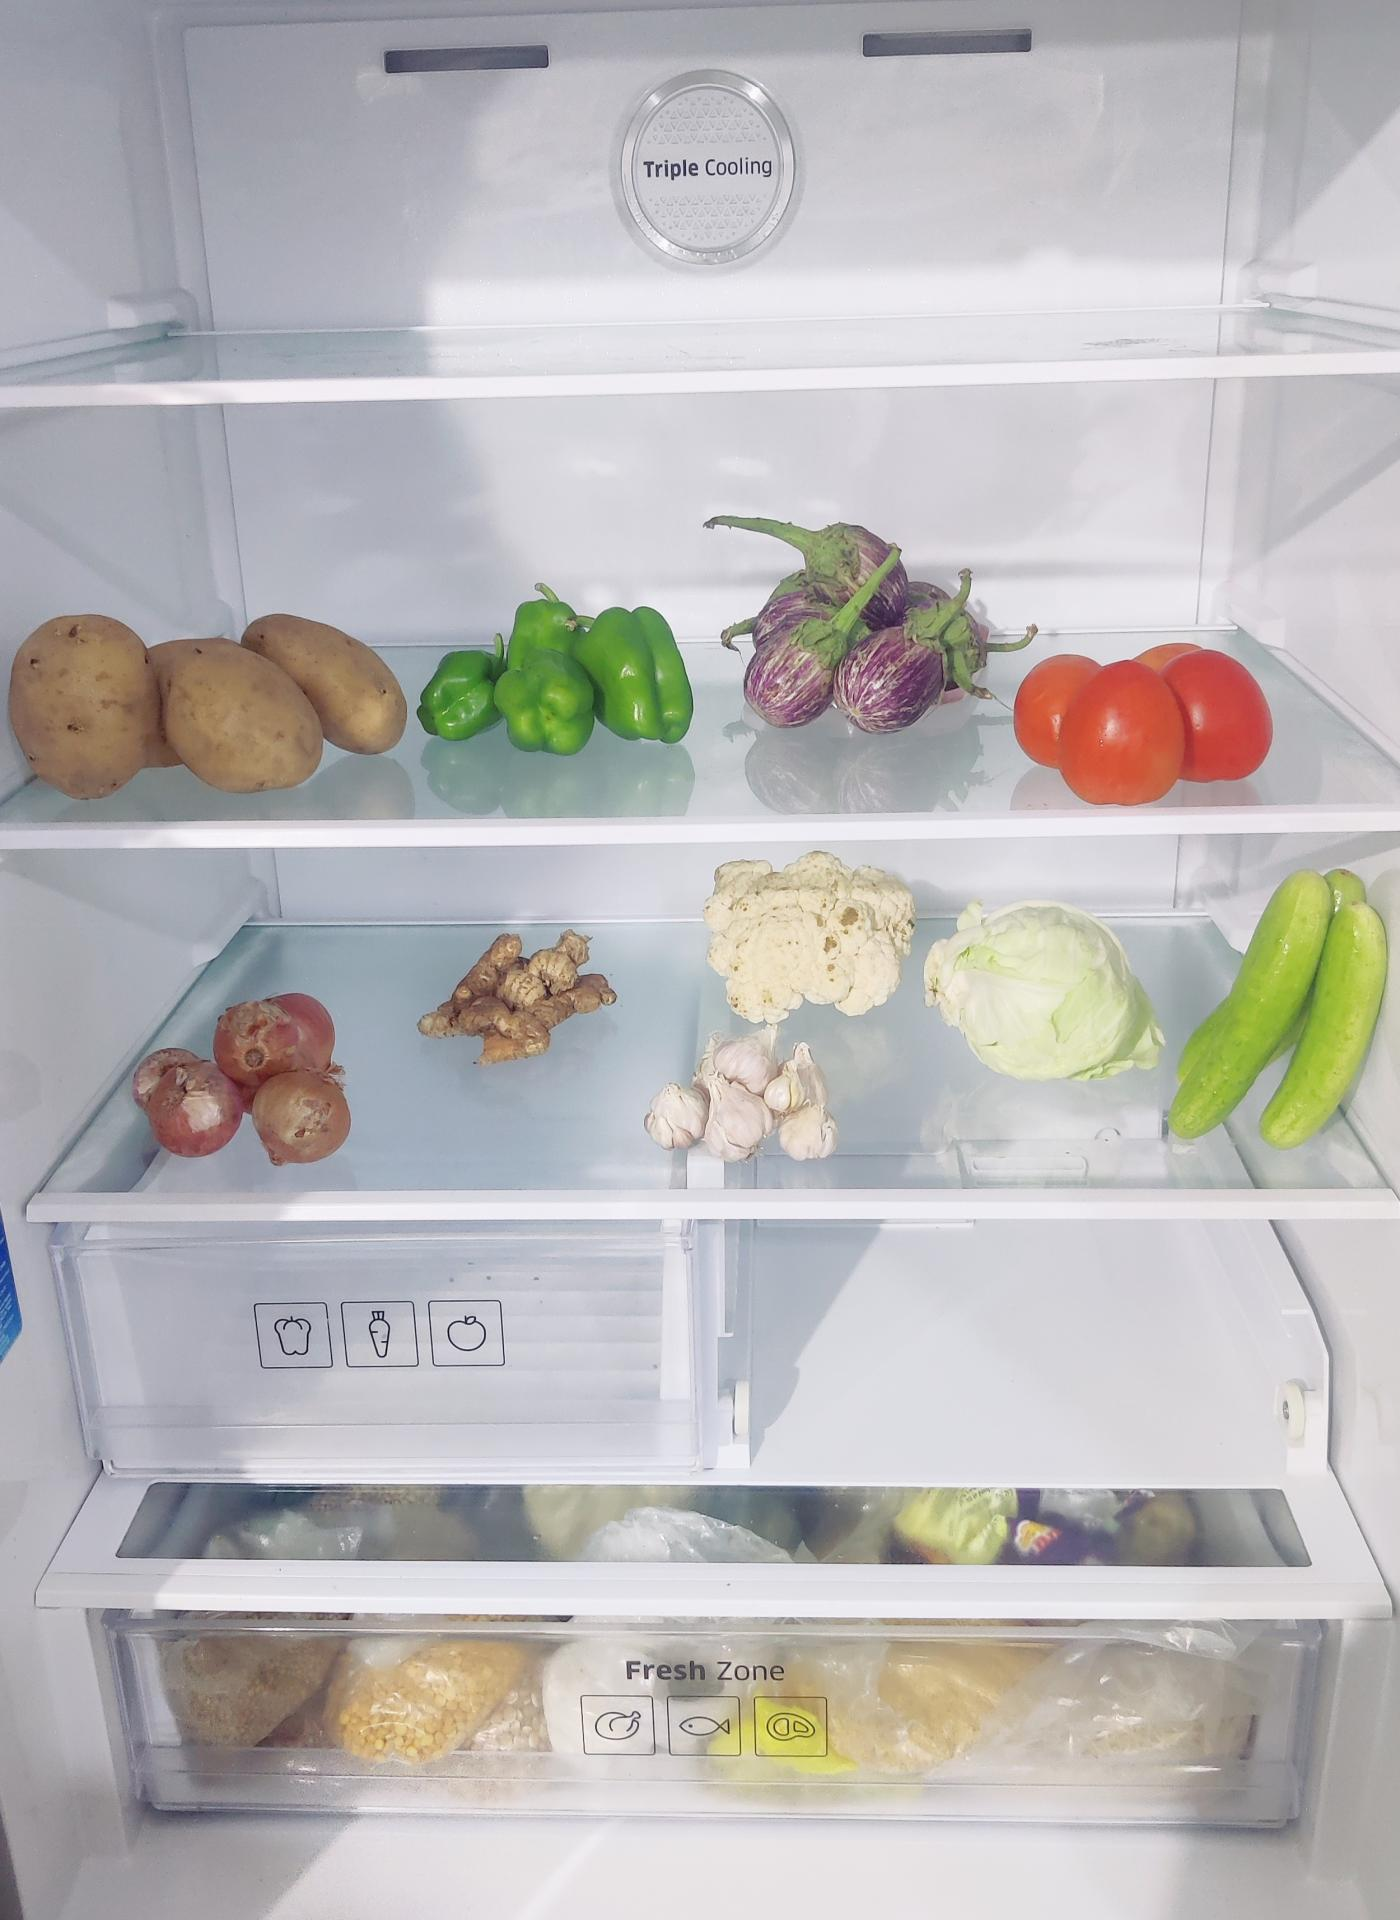brinjal: (741, 538, 975, 735)
cabbage: (924, 906, 1161, 1091)
capsicum: (416, 593, 689, 751)
cauliflower: (702, 857, 915, 1027)
cucumber: (1164, 884, 1390, 1169)
garlic: (649, 1033, 841, 1160)
ginger: (422, 932, 622, 1066)
onion: (137, 985, 346, 1163)
potato: (7, 604, 407, 787)
tomato: (1012, 637, 1272, 800)
